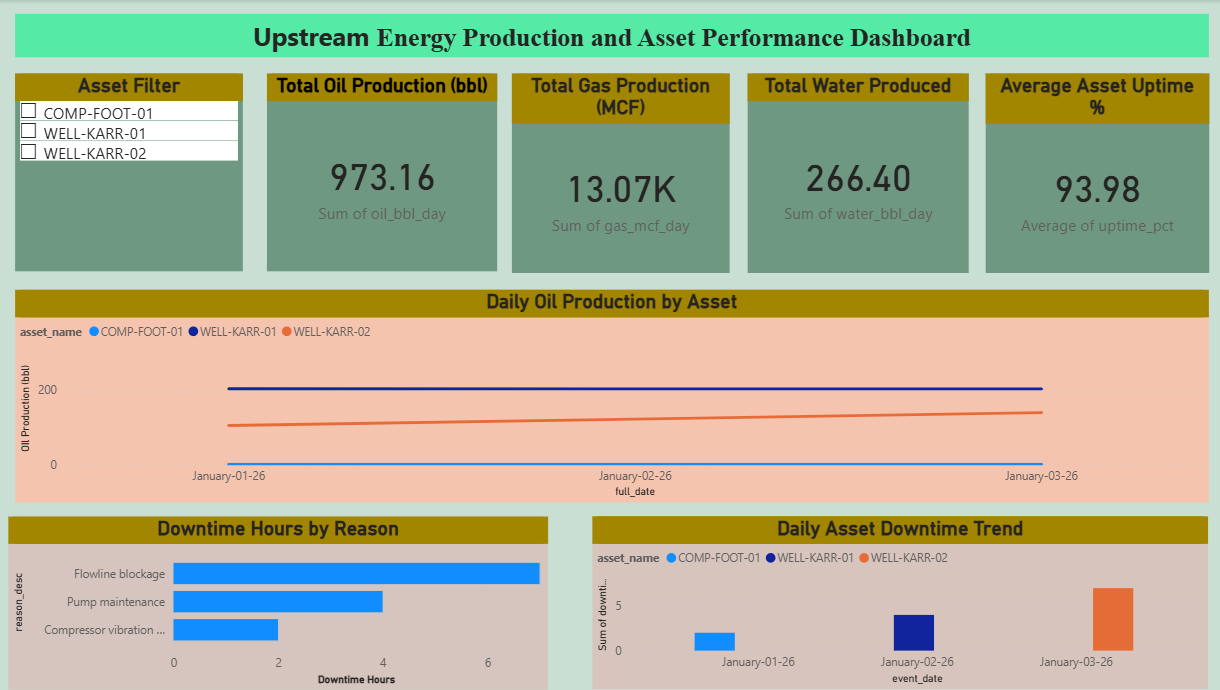

What the dashboard file says about the page in this screenshot:
{"tool":"powerbi","page":{"name":"Page 1","canvas":[1280,720],"ordinal":0},"visuals":[{"type":"card","title":"Total Oil Production (bbl)","fields":{"Values":["Sum(dw vw_kpi_daily.oil_bbl_day)"]},"box":[279.5,76.8,239.9,206.3],"z":0},{"type":"card","title":"Total Gas Production (MCF)","fields":{"Values":["Sum(dw vw_kpi_daily.gas_mcf_day)"]},"box":[535.1,76.8,226.7,207.5],"z":1000},{"type":"card","title":"Total Water Produced","fields":{"Values":["Sum(dw vw_kpi_daily.water_bbl_day)"]},"box":[779.8,76.8,230.3,207.5],"z":1001},{"type":"card","title":"Average Asset Uptime %","fields":{"Values":["Avg(dw vw_kpi_daily.uptime_pct)"]},"box":[1028.1,76.8,232.7,207.5],"z":1002},{"type":"lineChart","title":"Daily Oil Production by Asset ","fields":{"Y":["Sum(dw vw_kpi_daily.oil_bbl_day)"],"Series":["dw vw_kpi_daily.asset_name"],"Category":["dw vw_kpi_daily.full_date"]},"box":[16.8,302.3,1244.1,221.9],"z":1003},{"type":"clusteredBarChart","title":"Downtime Hours by Reason","fields":{"Category":["dw vw_downtime_reason_daily.reason_desc"],"Y":["Sum(dw vw_downtime_reason_daily.downtime_hours)"]},"box":[9.6,538.7,562.6,181.2],"z":1004},{"type":"clusteredColumnChart","title":"Daily Asset Downtime Trend","fields":{"Category":["dw vw_downtime_reason_daily.event_date"],"Y":["Sum(dw vw_downtime_reason_daily.downtime_hours)"],"Series":["dw vw_downtime_reason_daily.asset_name"]},"box":[619,538.7,641.8,180],"z":1005},{"type":"listSlicer","title":"Asset Filter","fields":{"Values":["dw vw_downtime_reason_daily.asset_name"]},"box":[16.8,76.8,237.5,206.3],"z":1006},{"type":"textbox","box":[16.8,14.4,1244.1,45.6],"z":1007}]}

Visuals, with their boxes in screenshot pixels (x1, y1, x2, y2), scaled from the page's 1280x720 canvas onto the 1220x690 screenshot:
"Total Oil Production (bbl)" card: locate(266, 74, 495, 271)
"Total Gas Production (MCF)" card: locate(510, 74, 726, 272)
"Total Water Produced" card: locate(743, 74, 963, 272)
"Average Asset Uptime %" card: locate(980, 74, 1202, 272)
"Daily Oil Production by Asset " lineChart: locate(16, 290, 1202, 502)
"Downtime Hours by Reason" clusteredBarChart: locate(9, 516, 545, 689)
"Daily Asset Downtime Trend" clusteredColumnChart: locate(590, 516, 1202, 689)
"Asset Filter" listSlicer: locate(16, 74, 242, 271)
textbox: locate(16, 14, 1202, 58)
